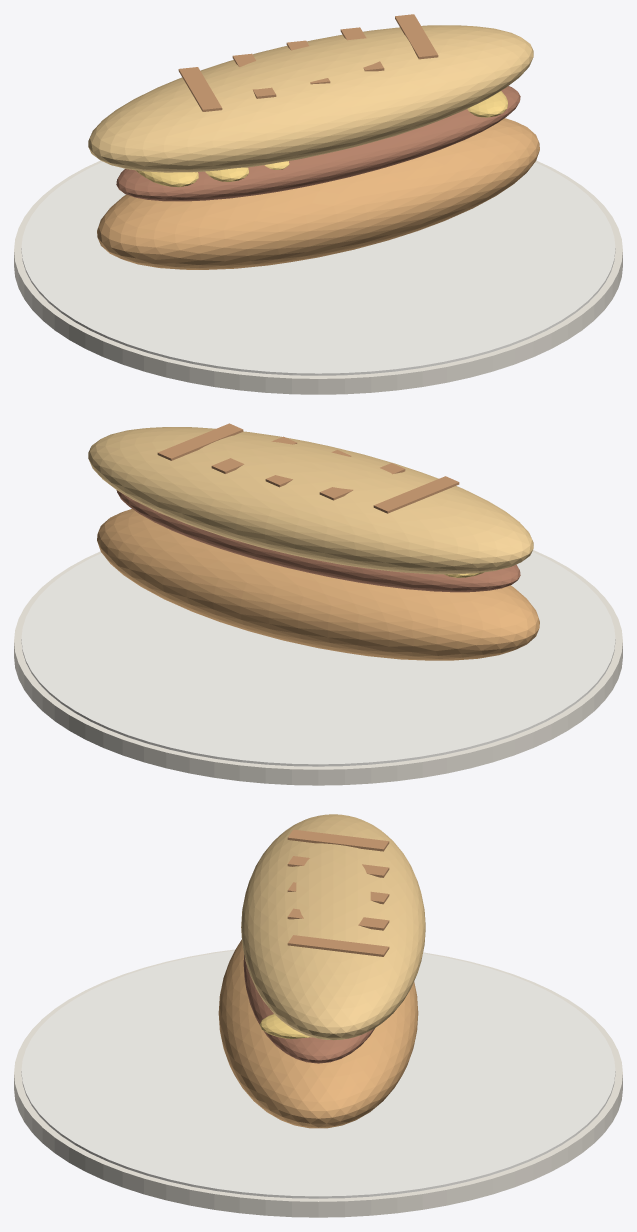
Rendered from pao-recheado.glb.
3 views of the same model, one above another, from view 1: azimuth 30°, elevation 25°; view 2: azimuth 150°, elevation 25°; view 3: azimuth 270°, elevation 25° (orthographic).
Parts seen in each view (by area): view 1: borda_do_prato_2, baguete_tampa_21, baguete_inferior_3, prato_ceramica_1, recheio_carne_4, corte_pao_22, corte_pao_26, queijo_gratinado_5, queijo_gratinado_19; view 2: borda_do_prato_2, baguete_tampa_21, baguete_inferior_3, prato_ceramica_1, recheio_carne_4, corte_pao_22, corte_pao_26; view 3: borda_do_prato_2, baguete_tampa_21, baguete_inferior_3, prato_ceramica_1, recheio_carne_4, corte_pao_26, corte_pao_22, queijo_gratinado_19.
Part boxes in pixels (bbox=[...]): borda_do_prato_2: bbox=[21, 161, 615, 375]; baguete_tampa_21: bbox=[88, 25, 533, 172]; baguete_inferior_3: bbox=[97, 118, 539, 269]; prato_ceramica_1: bbox=[14, 160, 622, 394]; recheio_carne_4: bbox=[116, 86, 520, 201]; corte_pao_22: bbox=[178, 67, 222, 111]; corte_pao_26: bbox=[395, 14, 438, 59]; queijo_gratinado_5: bbox=[136, 170, 198, 187]; queijo_gratinado_19: bbox=[467, 91, 507, 117]; borda_do_prato_2: bbox=[21, 552, 615, 766]; baguete_tampa_21: bbox=[88, 427, 533, 574]; baguete_inferior_3: bbox=[97, 509, 539, 660]; prato_ceramica_1: bbox=[14, 550, 622, 785]; recheio_carne_4: bbox=[116, 490, 520, 592]; corte_pao_22: bbox=[373, 476, 459, 513]; corte_pao_26: bbox=[157, 423, 243, 460]; borda_do_prato_2: bbox=[21, 950, 615, 1198]; baguete_tampa_21: bbox=[241, 814, 425, 1040]; baguete_inferior_3: bbox=[218, 939, 418, 1128]; prato_ceramica_1: bbox=[14, 949, 622, 1217]; recheio_carne_4: bbox=[243, 955, 374, 1063]; corte_pao_26: bbox=[287, 935, 389, 956]; corte_pao_22: bbox=[287, 829, 389, 851]; queijo_gratinado_19: bbox=[259, 1014, 311, 1038].
Bounding box in the file's own units: 0.244 × 0.0885 × 0.244.
